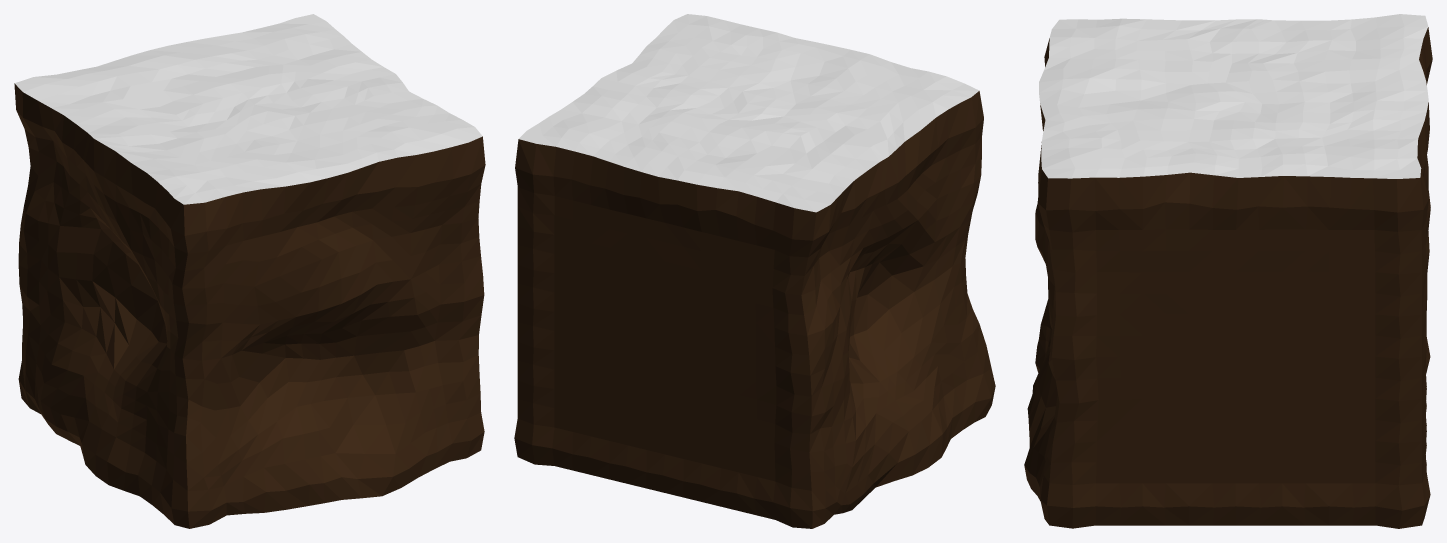
The model's file is Floating Island 1.fbx.
3 views of the same model, side by side, from view 1: azimuth 30°, elevation 25°; view 2: azimuth 150°, elevation 25°; view 3: azimuth 270°, elevation 25° (orthographic). The views are drawn at different scales.
Parts seen in each view (by area): view 1: Ground; view 2: Ground; view 3: Ground.
Boxes of the visible parts, x1,y1,x2,y2 form: Ground: [14, 14, 485, 528]; Ground: [514, 14, 995, 528]; Ground: [1024, 14, 1432, 528].
Size of the model in its own units: 43.02 by 42.58 by 42.92.
